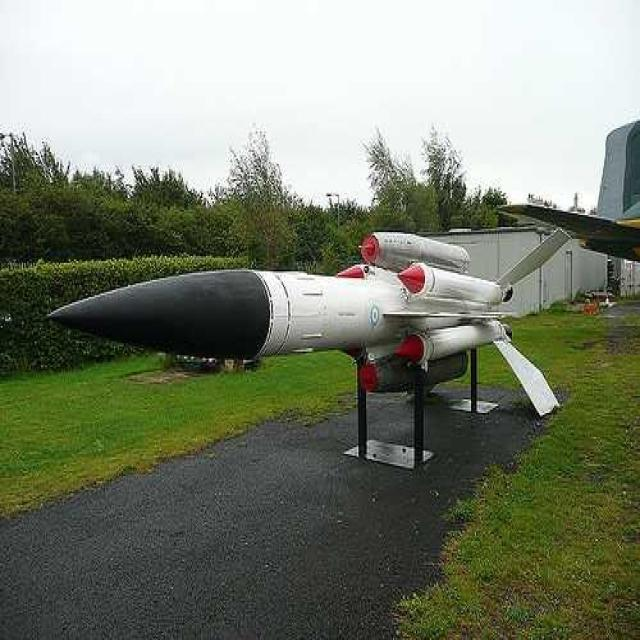missile: (26, 219, 571, 464)
